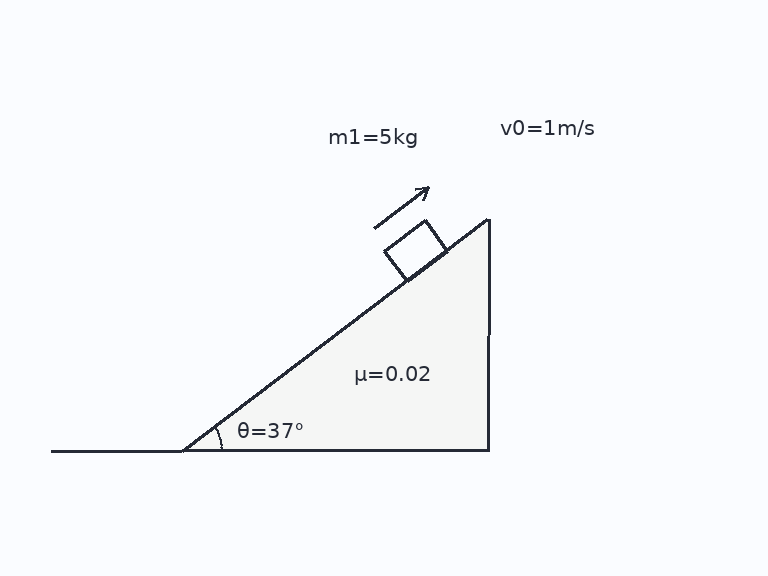block: (382, 218, 449, 283)
ramp: (180, 217, 490, 452)
